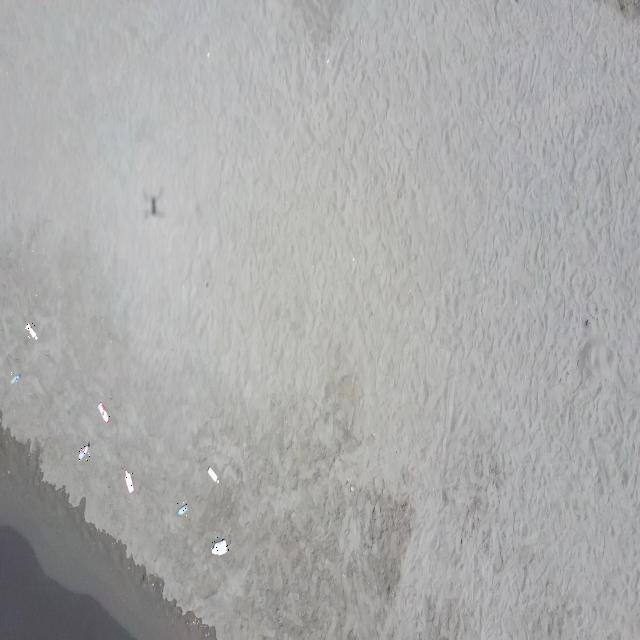plastic-bottle: (212, 537, 230, 556), (25, 323, 40, 343), (98, 402, 111, 425), (206, 466, 220, 485), (124, 469, 134, 494), (78, 442, 90, 460), (176, 502, 188, 516), (10, 372, 20, 386)
